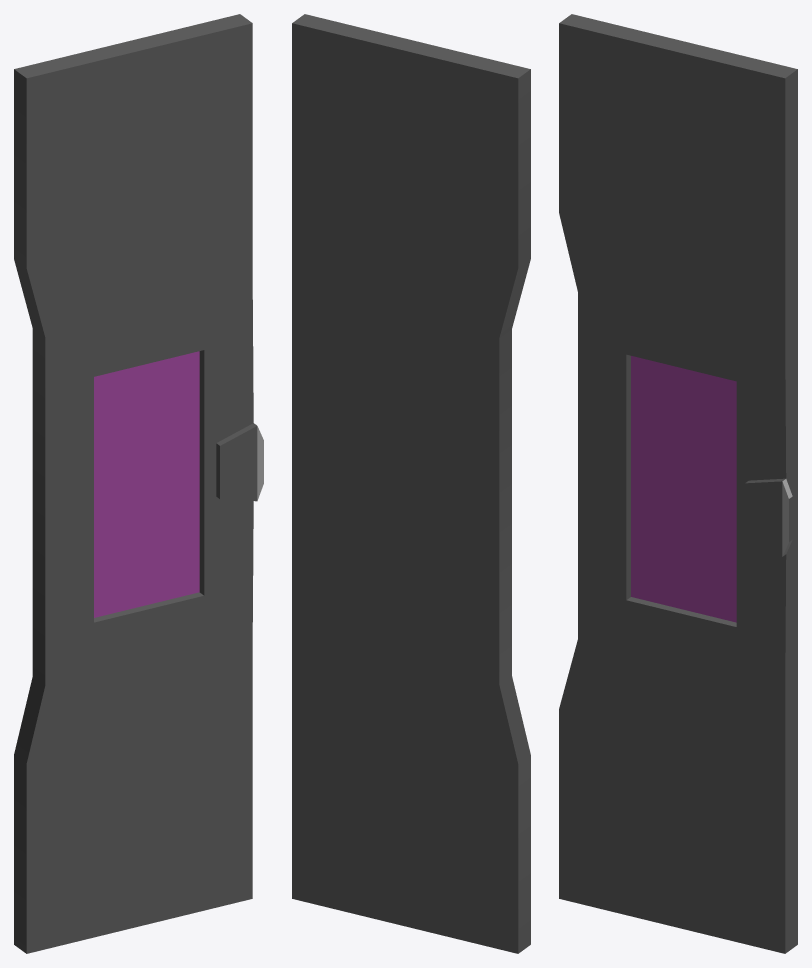
The model's file is Porte Armoire 3.fbx.
3 renders of one model, left to right at view 1: azimuth 30°, elevation 25°; view 2: azimuth 150°, elevation 25°; view 3: azimuth 330°, elevation 25°, orthographic.
Parts seen in each view (by area): view 1: polySurface12; view 2: polySurface12; view 3: polySurface12.
Boxes of the visible parts, <box> form: polySurface12: <box>14,14,263,953</box>; polySurface12: <box>292,14,530,953</box>; polySurface12: <box>559,14,797,953</box>.
Bounding box in the file's own units: 2.89 × 10.35 × 0.3506.
